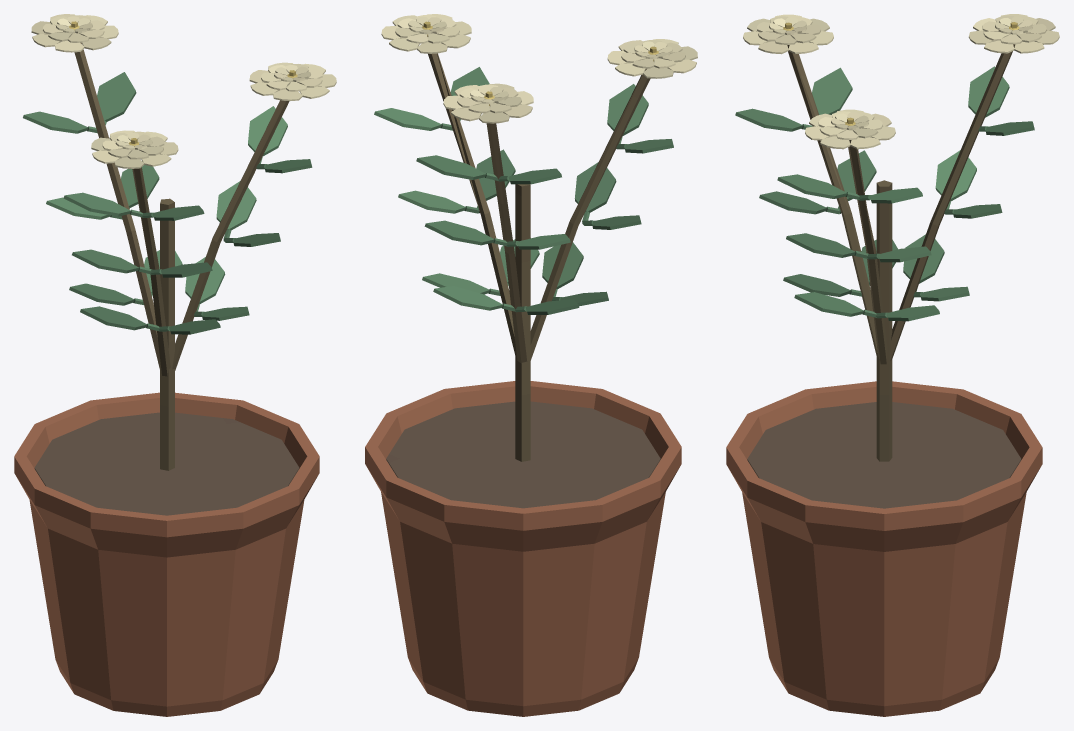
The model's file is gardenia.glb.
3 views of the same model, side by side, from view 1: azimuth 30°, elevation 25°; view 2: azimuth 150°, elevation 25°; view 3: azimuth 270°, elevation 25° (orthographic). The views are drawn at different scales.
Parts seen in each view (by area): view 1: gardenia/review-terra-vessel, gardenia/review-rooted-soil, gardenia/petiole-001, gardenia/stem-038, gardenia/stem-002, gardenia/stem-074, gardenia/leaf-048, gardenia/leaf-014, gardenia/leaf-010, gardenia/leaf-084, gardenia/leaf-076, gardenia/leaf-080 (+8 smaller); view 2: gardenia/review-terra-vessel, gardenia/review-rooted-soil, gardenia/petiole-001, gardenia/stem-074, gardenia/stem-002, gardenia/stem-038, gardenia/leaf-086, gardenia/leaf-082, gardenia/leaf-078, gardenia/leaf-044, gardenia/leaf-048, gardenia/leaf-040 (+9 smaller); view 3: gardenia/review-terra-vessel, gardenia/review-rooted-soil, gardenia/petiole-001, gardenia/stem-038, gardenia/stem-074, gardenia/stem-002, gardenia/leaf-084, gardenia/leaf-050, gardenia/leaf-046, gardenia/leaf-012, gardenia/leaf-008, gardenia/leaf-004 (+11 smaller).
Part boxes in pixels (bbox=[...]): gardenia/review-terra-vessel: bbox=[14, 392, 319, 716]; gardenia/review-rooted-soil: bbox=[34, 412, 299, 515]; gardenia/petiole-001: bbox=[160, 198, 174, 470]; gardenia/stem-038: bbox=[74, 42, 159, 368]; gardenia/stem-002: bbox=[172, 100, 289, 370]; gardenia/stem-074: bbox=[132, 159, 170, 376]; gardenia/leaf-048: bbox=[97, 72, 136, 121]; gardenia/leaf-014: bbox=[248, 106, 287, 156]; gardenia/leaf-010: bbox=[216, 181, 256, 230]; gardenia/leaf-084: bbox=[63, 192, 130, 216]; gardenia/leaf-076: bbox=[80, 306, 147, 330]; gardenia/leaf-080: bbox=[72, 249, 138, 273]; gardenia/review-terra-vessel: bbox=[365, 381, 681, 716]; gardenia/review-rooted-soil: bbox=[386, 401, 660, 508]; gardenia/petiole-001: bbox=[515, 184, 530, 461]; gardenia/stem-074: bbox=[530, 68, 650, 360]; gardenia/stem-002: bbox=[427, 36, 515, 354]; gardenia/stem-038: bbox=[486, 123, 527, 363]; gardenia/leaf-086: bbox=[607, 84, 648, 136]; gardenia/leaf-082: bbox=[574, 162, 616, 212]; gardenia/leaf-078: bbox=[542, 242, 583, 289]; gardenia/leaf-044: bbox=[424, 220, 494, 245]; gardenia/leaf-048: bbox=[416, 155, 486, 179]; gardenia/leaf-040: bbox=[433, 286, 502, 310]; gardenia/review-terra-vessel: bbox=[726, 381, 1042, 716]; gardenia/review-rooted-soil: bbox=[747, 402, 1021, 508]; gardenia/petiole-001: bbox=[876, 180, 892, 461]; gardenia/stem-038: bbox=[890, 44, 1015, 360]; gardenia/stem-074: bbox=[787, 45, 877, 355]; gardenia/stem-002: bbox=[848, 140, 887, 364]; gardenia/leaf-084: bbox=[812, 67, 852, 114]; gardenia/leaf-050: bbox=[968, 66, 1009, 117]; gardenia/leaf-046: bbox=[935, 150, 976, 201]; gardenia/leaf-012: bbox=[777, 174, 847, 198]; gardenia/leaf-008: bbox=[786, 233, 855, 257]; gardenia/leaf-004: bbox=[794, 292, 863, 316].
Bounding box in the file's own units: 0.2838 × 0.595 × 0.2847.
6 materials, 6 textured.
